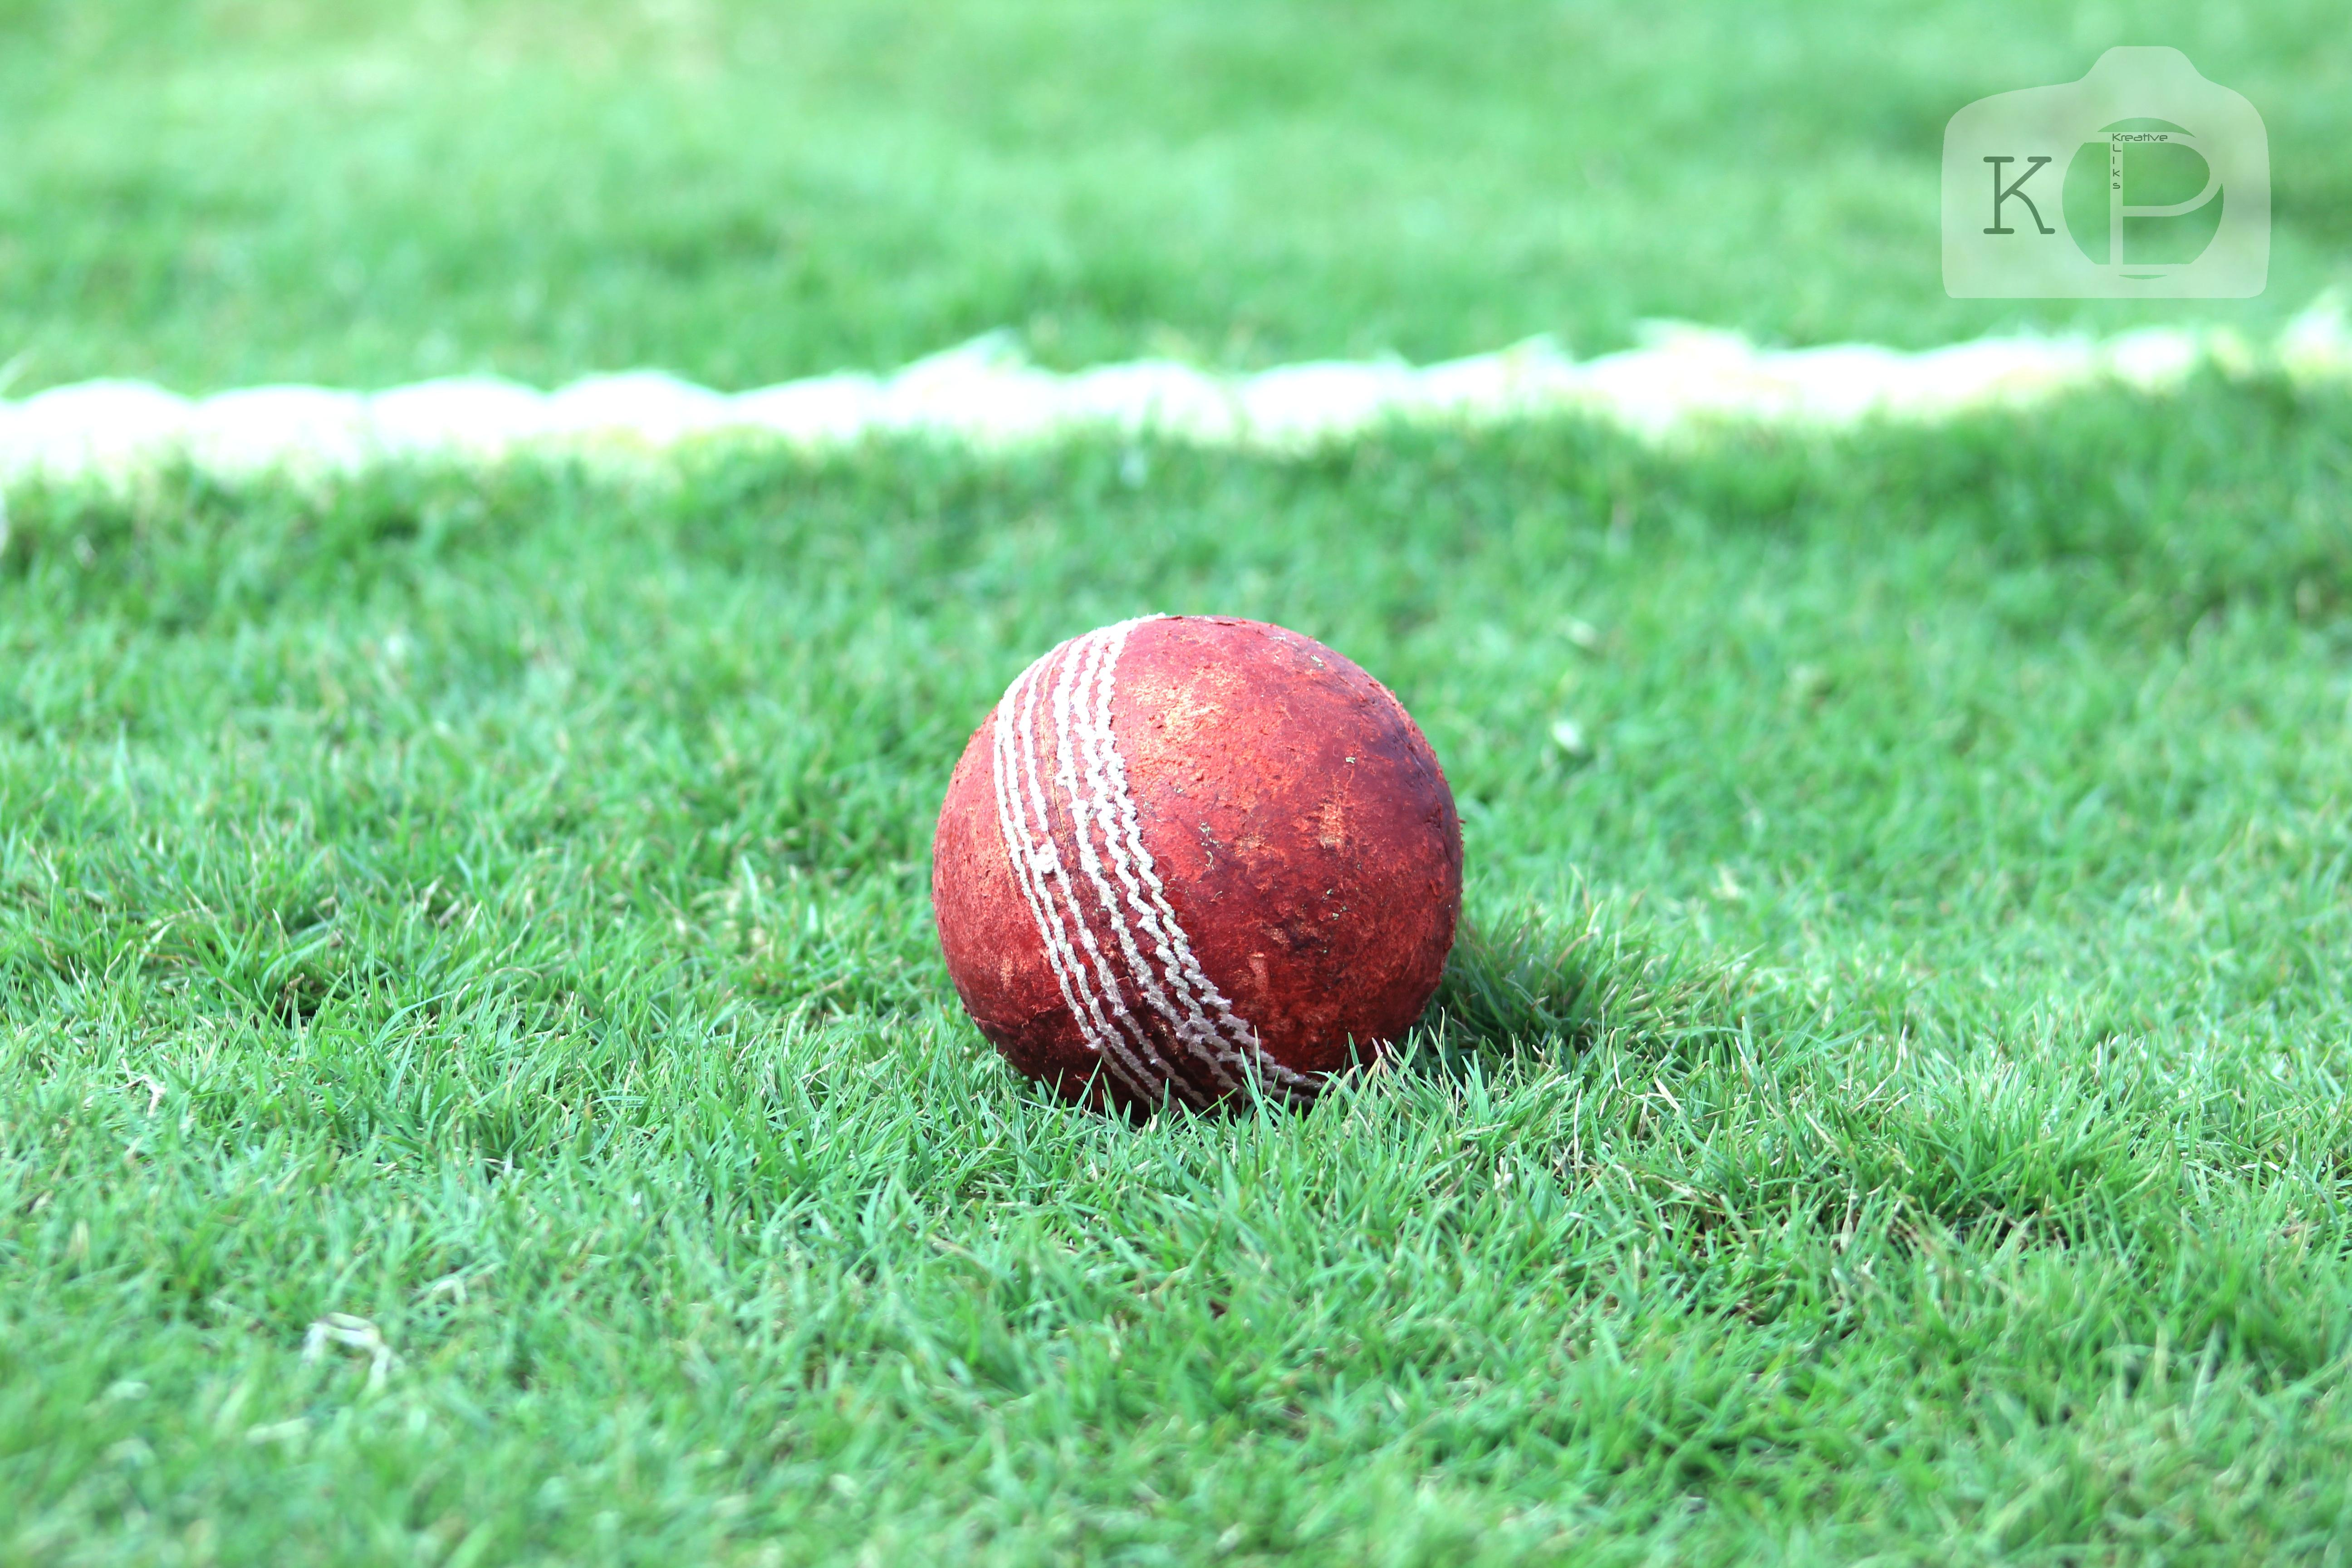Red_Ball: (892, 591, 1482, 1132)
